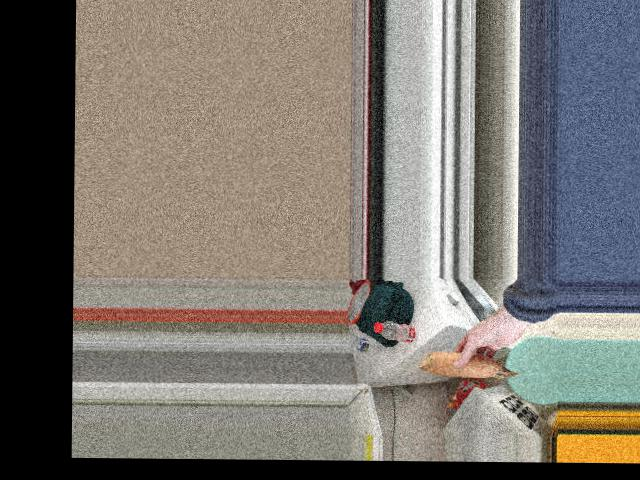sweet_potato: (428, 345, 516, 378)
